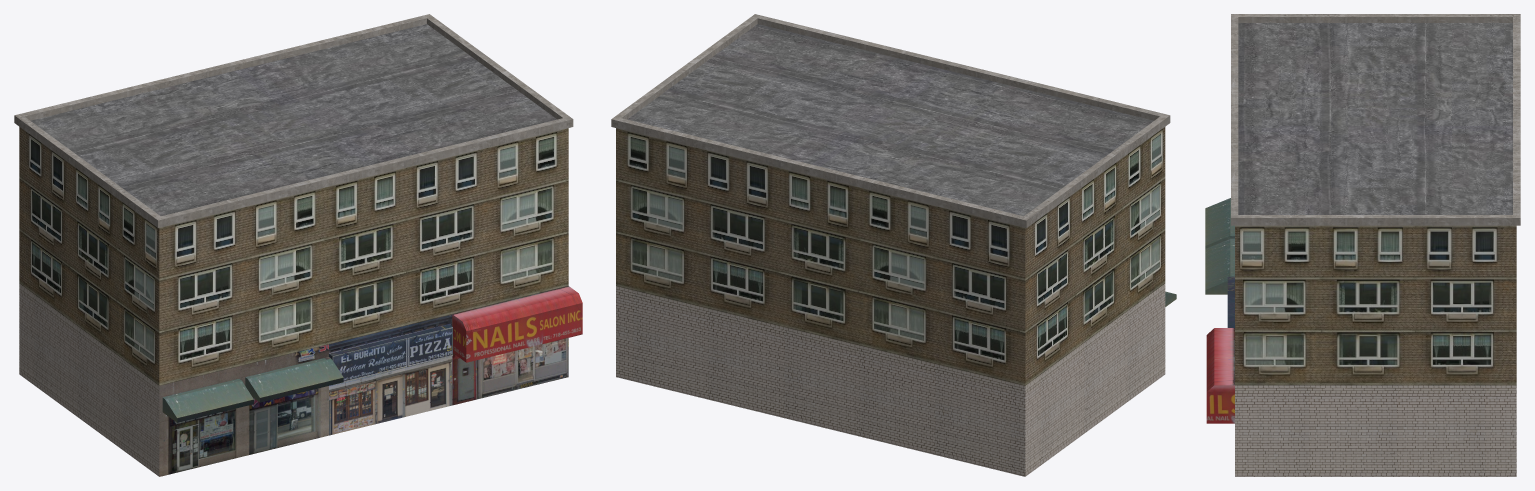
Rendered from building-07.glb.
3 renders of one model, left to right at view 1: azimuth 30°, elevation 25°; view 2: azimuth 150°, elevation 25°; view 3: azimuth 270°, elevation 25°, orthographic.
Parts seen in each view (by area): view 1: Building_07; view 2: Building_07; view 3: Building_07.
Part boxes in pixels (x1,y1,x2,y2): Building_07: [14, 14, 582, 476]; Building_07: [611, 14, 1176, 476]; Building_07: [1205, 14, 1520, 476].
Size of the model in its own units: 24.88 by 14.8 by 16.24.
Materials: 7 (7 with a texture image).
